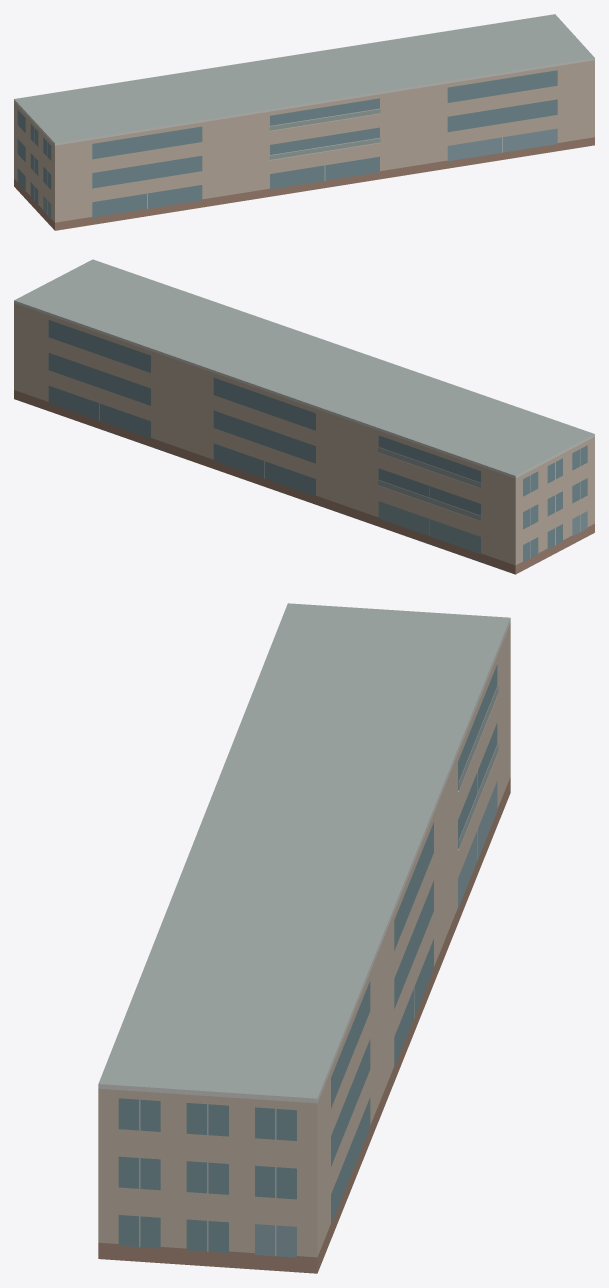
Rendered from survey-upis-32592420.glb.
The picture shows the model from 3 angles, top to bottom: view 1: azimuth 30°, elevation 25°; view 2: azimuth 150°, elevation 25°; view 3: azimuth 270°, elevation 25°; orthographic projection. The views are drawn at different scales.
Visible parts, largest first — view 1: survey-upis-32592420.tmp; view 2: survey-upis-32592420.tmp; view 3: survey-upis-32592420.tmp.
Boxes of the visible parts, left/top/right/bottom form: survey-upis-32592420.tmp: left=14, top=14, right=594, bottom=230; survey-upis-32592420.tmp: left=14, top=259, right=594, bottom=574; survey-upis-32592420.tmp: left=98, top=603, right=510, bottom=1273.
Bounding box in the file's own units: 55.57 × 9.15 × 19.55.
